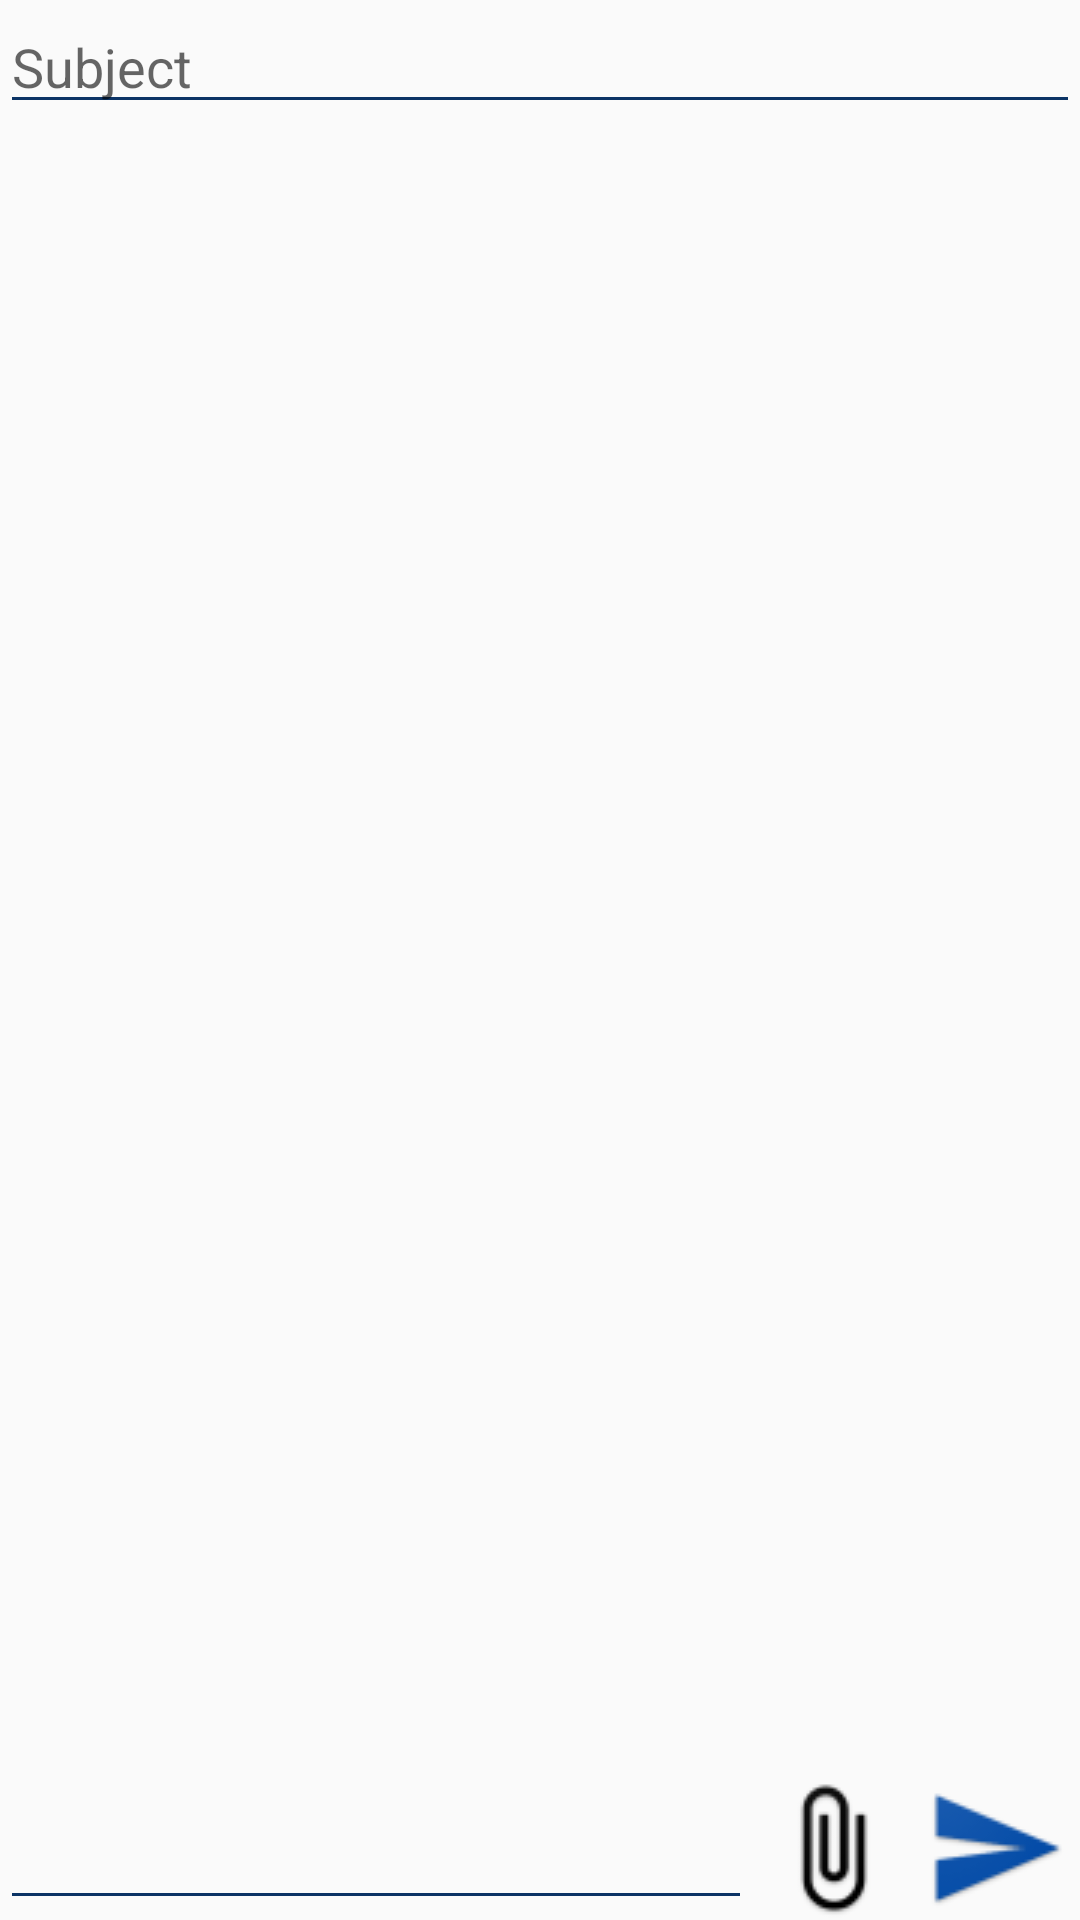

Where to tap for icons on this 1080×1920 app screen, as (x,y):
file: (834,1848)
sendd: (997,1848)
